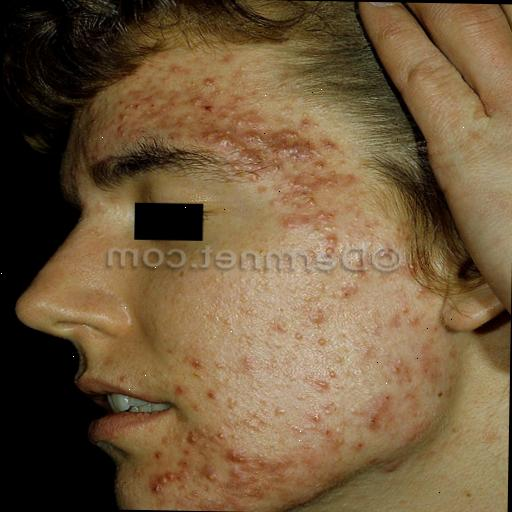Skin_Lesion: (96, 90, 183, 138), (270, 118, 326, 174), (224, 113, 260, 174), (226, 465, 286, 498), (309, 216, 354, 256), (296, 268, 324, 330), (148, 464, 180, 500), (368, 388, 394, 432), (190, 464, 225, 486), (333, 164, 357, 192), (302, 374, 328, 394), (407, 416, 426, 442), (339, 282, 358, 304), (186, 352, 205, 374), (224, 448, 248, 464), (390, 359, 406, 382), (446, 342, 460, 366), (461, 484, 477, 503), (184, 428, 198, 448), (199, 102, 215, 116), (387, 312, 399, 330), (204, 384, 216, 401), (174, 381, 186, 397), (308, 410, 320, 424), (436, 386, 448, 400), (352, 439, 363, 454)
